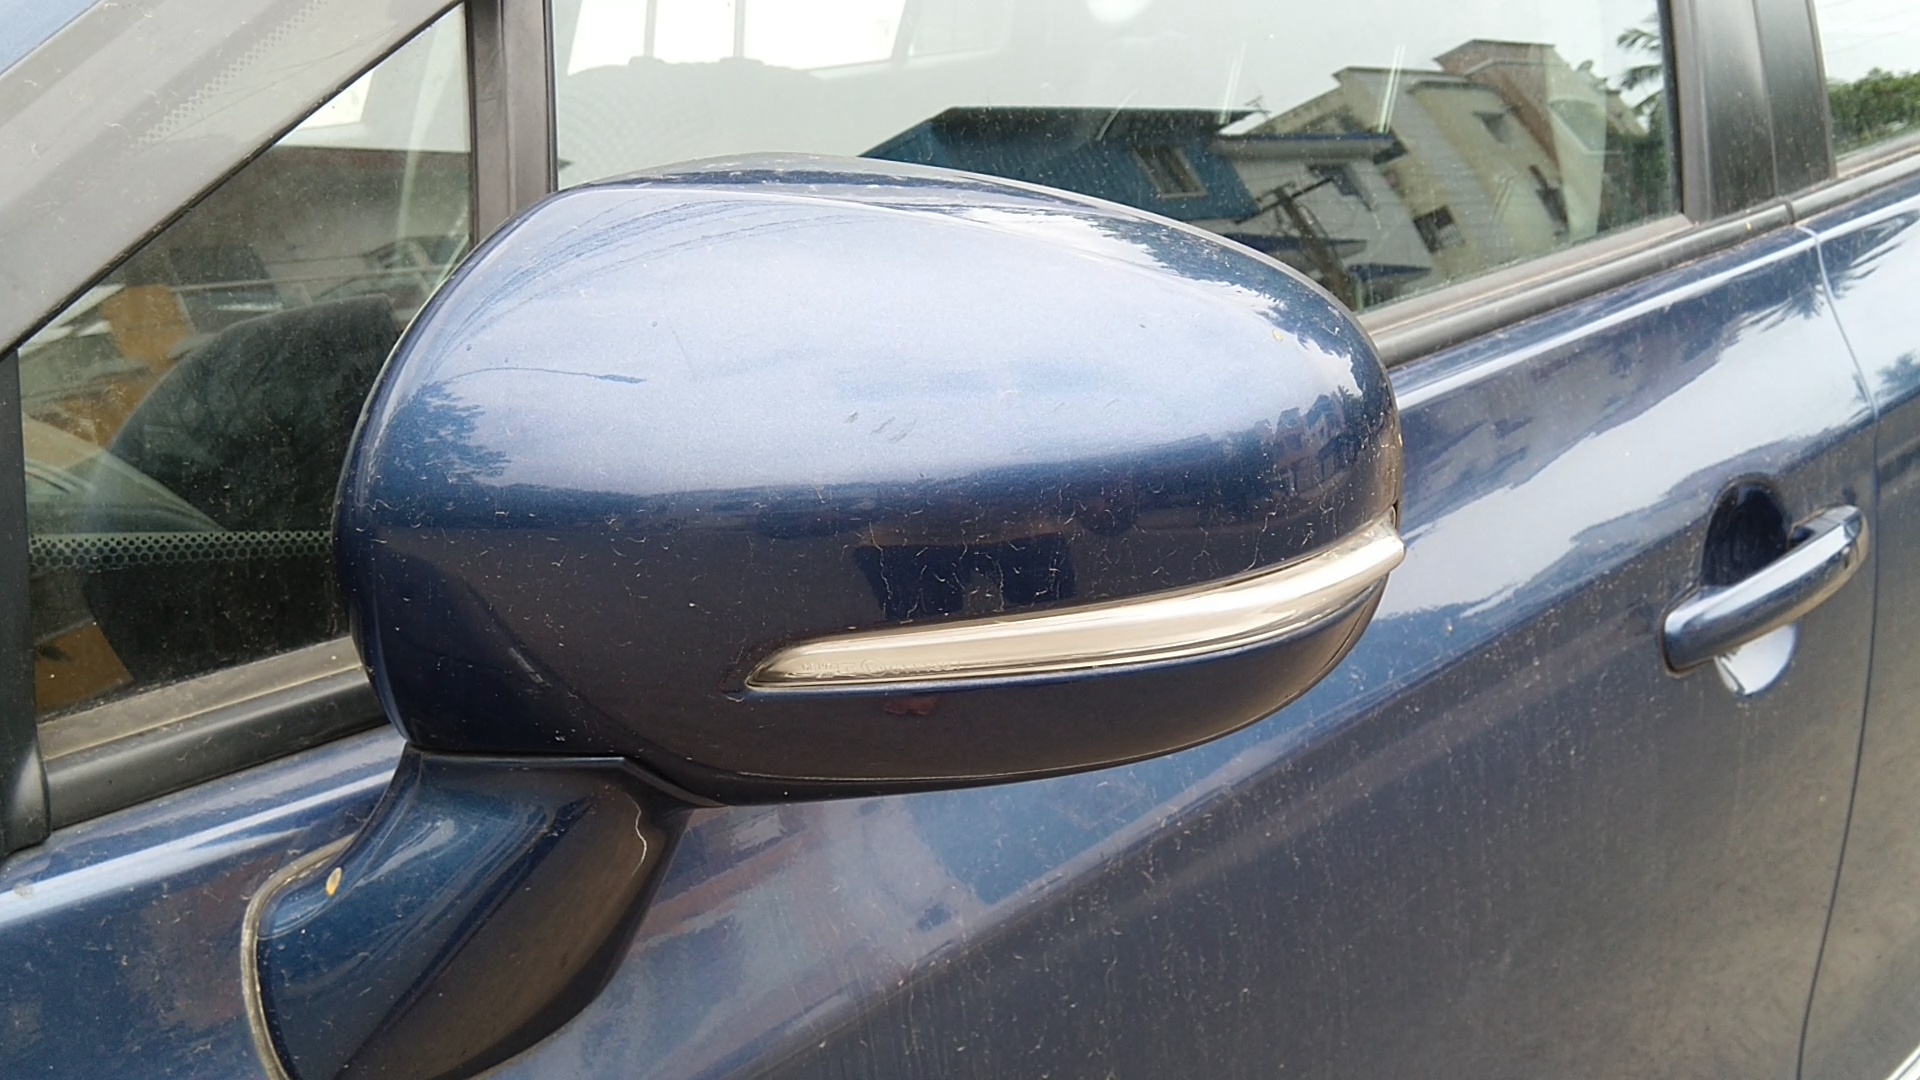ovr_mirror: (161, 140, 1431, 1080)
